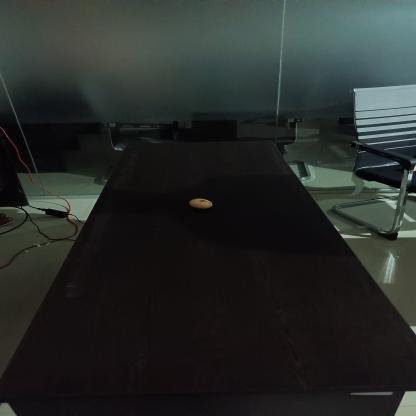egg: (188, 197, 216, 209)
